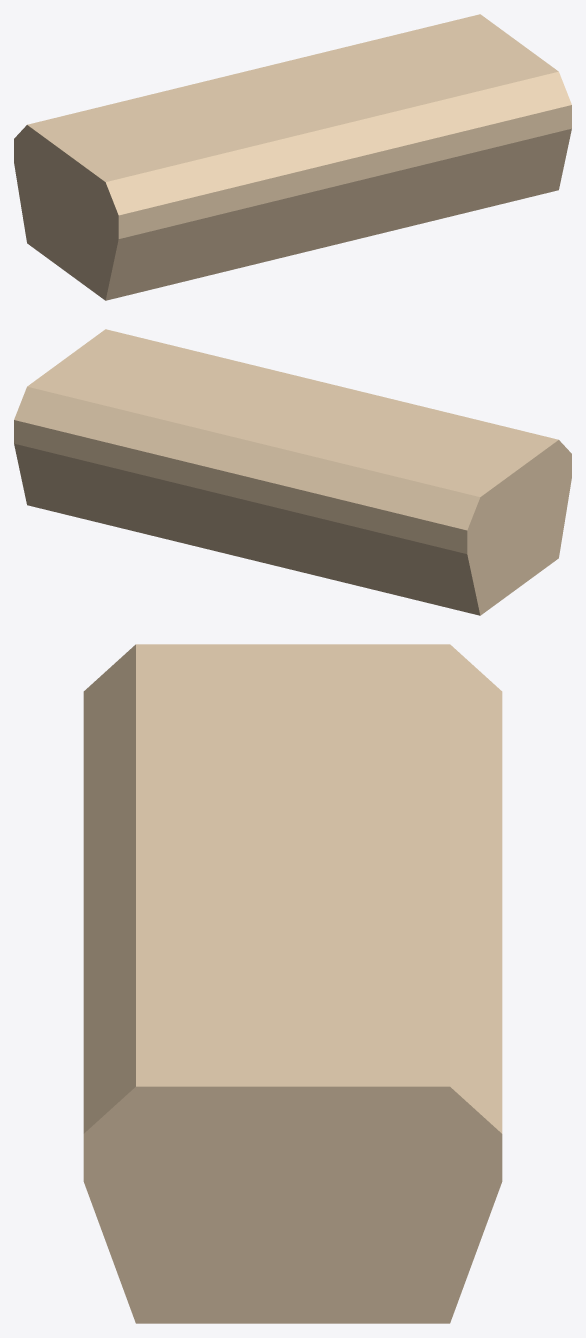
File: Wall_Straight_Top.glb
The picture shows the model from 3 angles, top to bottom: view 1: azimuth 30°, elevation 25°; view 2: azimuth 150°, elevation 25°; view 3: azimuth 270°, elevation 25°; orthographic projection. The views are drawn at different scales.
Parts seen in each view (by area): view 1: Wall_Straight_Top; view 2: Wall_Straight_Top; view 3: Wall_Straight_Top.
Boxes of the visible parts, left/top/right/bottom form: Wall_Straight_Top: left=14, top=14, right=571, bottom=300; Wall_Straight_Top: left=14, top=329, right=571, bottom=615; Wall_Straight_Top: left=83, top=644, right=502, bottom=1323.
Bounding box in the file's own units: 0.45 × 0.1125 × 0.18.
